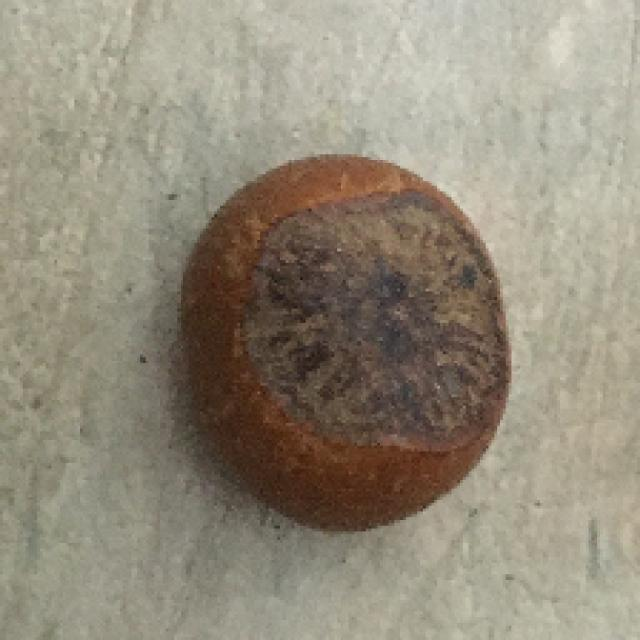qualityHazelnut: (178, 153, 516, 534)
